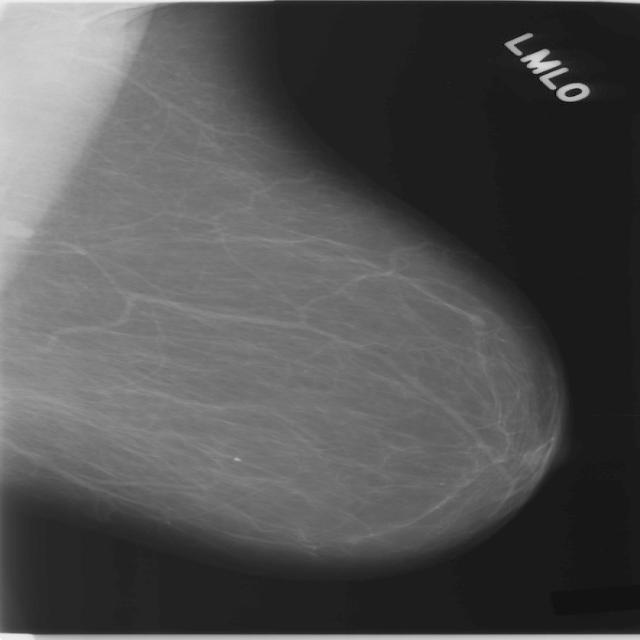tumour: (465, 312, 485, 328)
